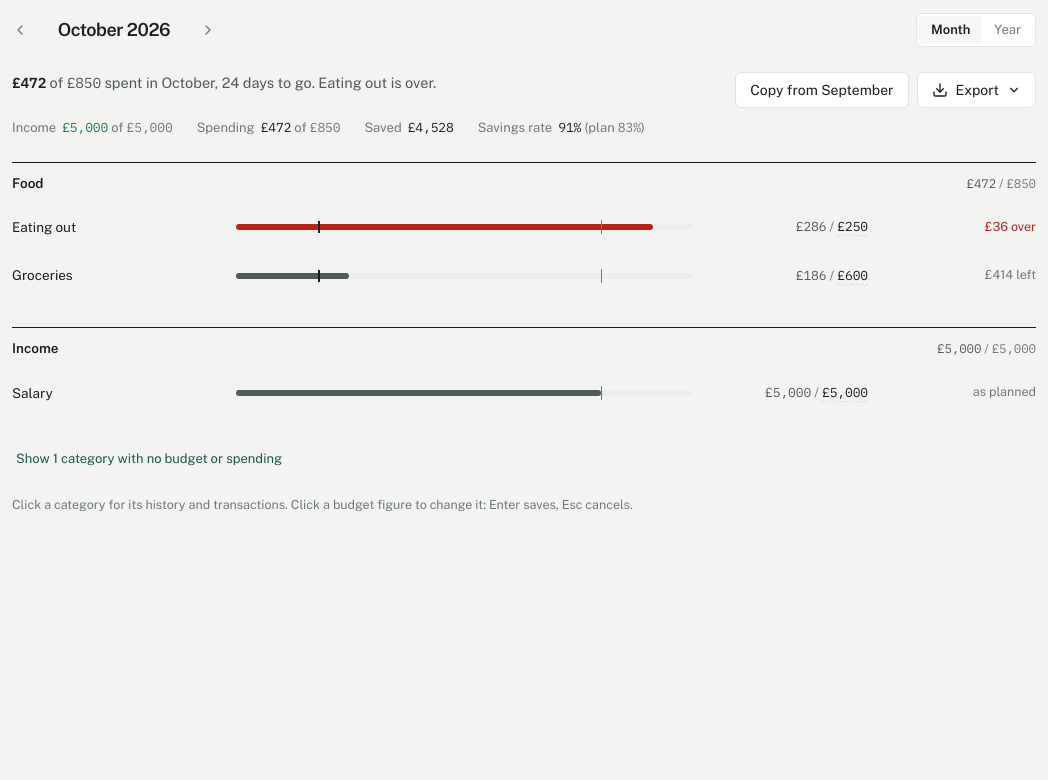
Test case: BudgetsView › rolls back and shows an error toast when the save fails
The image size is (1048, 780).
Expected: the text "24 days to go" is shown, [215,74,312,91]
Click the button named "Edit budget for Groceries, £600".
click(853, 276)  # box [833,262,872,289]
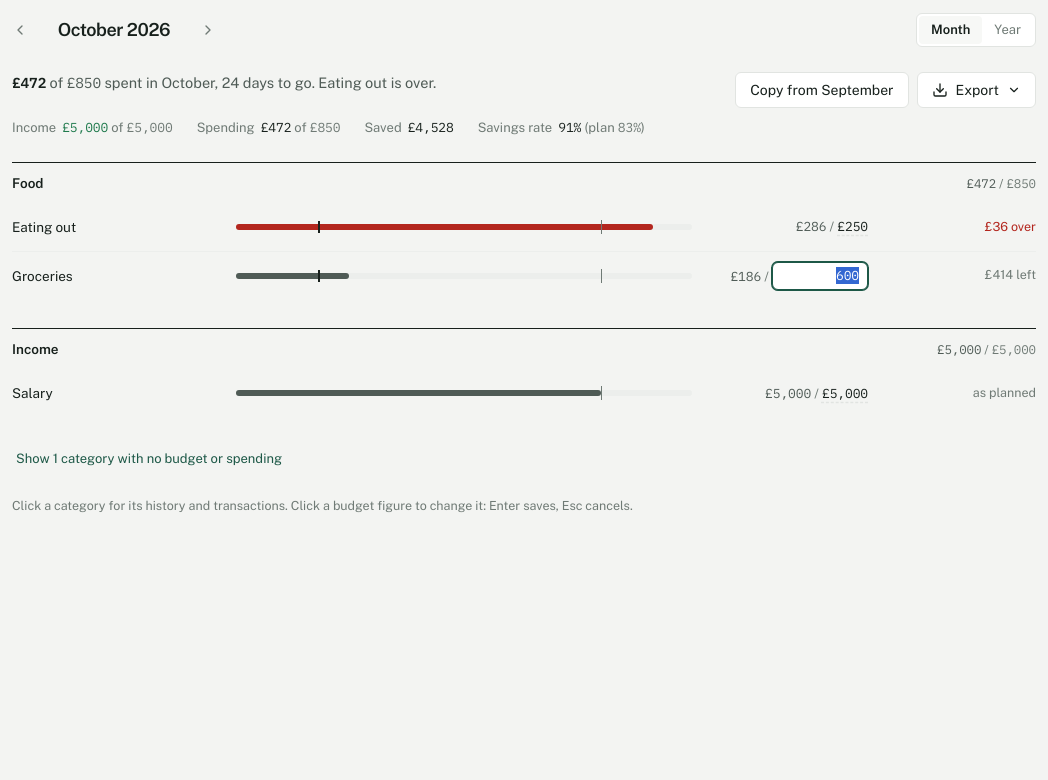
Replace the text in the field named "Budget for Groceries" with "450" at (820, 276), box [772,262,868,290]
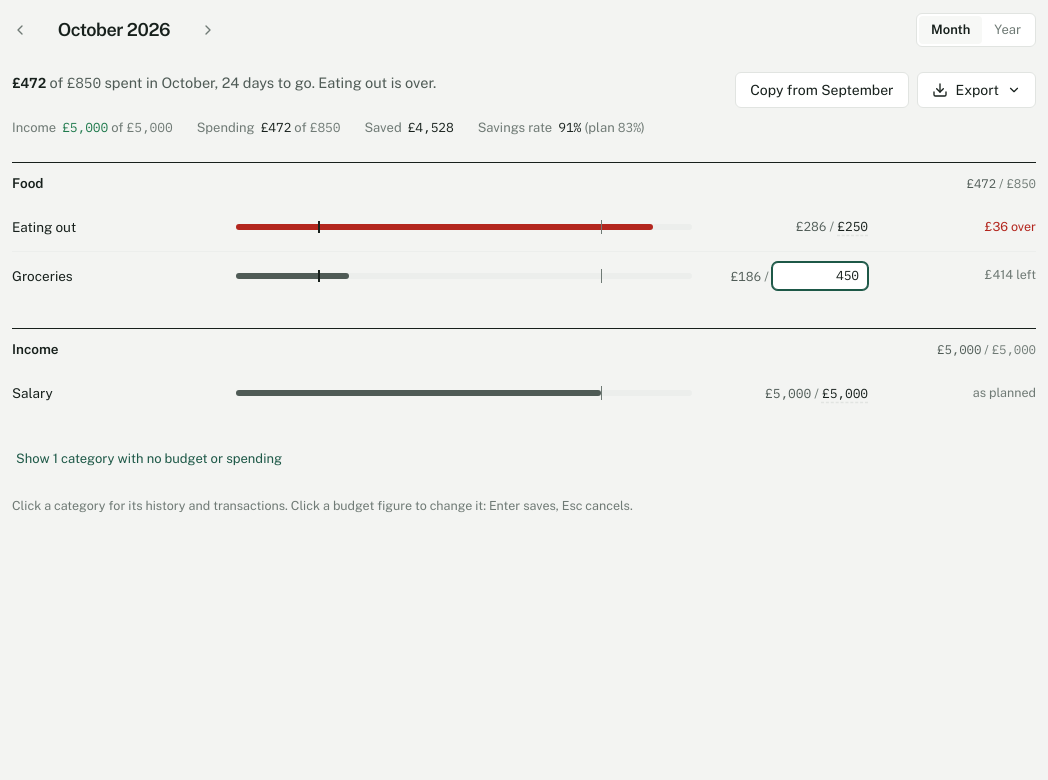
Press Enter in the field named "Budget for Groceries", box [772,262,868,290]
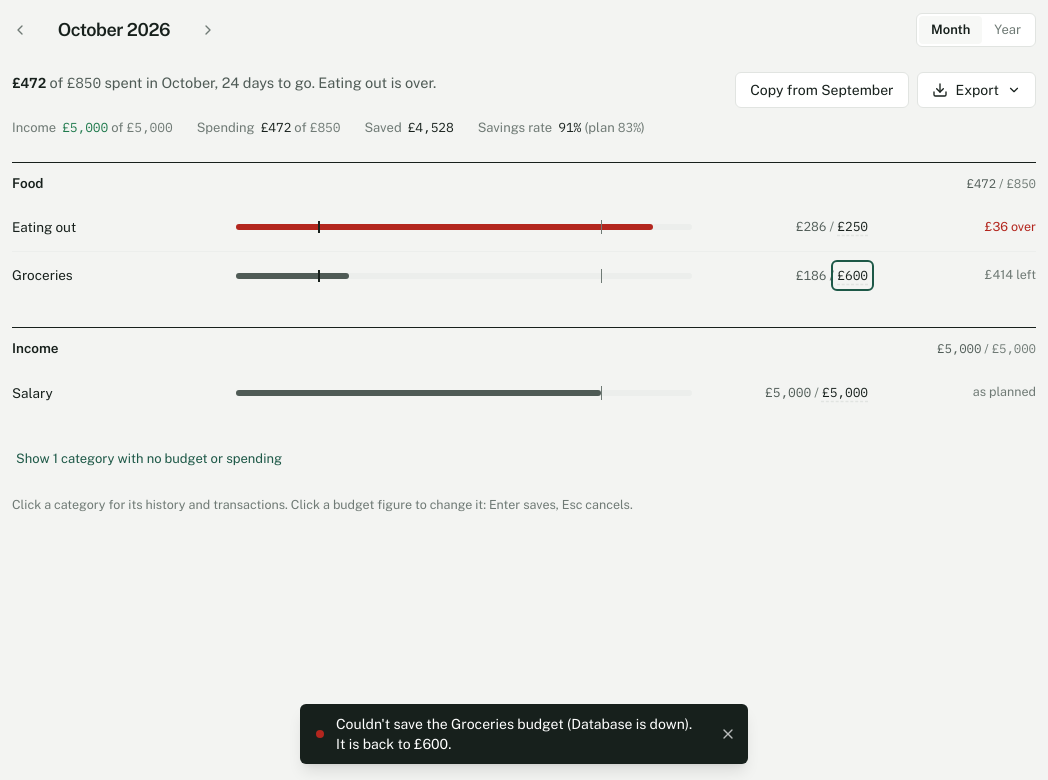
Expected: the text "£414 left" is shown, [985,267,1036,282]
Expected: the text "Couldn't save the Groceries budget (Database is down). It is back to £600." is shown, [336,714,704,754]
Expected: the button named "Edit budget for Groceries, £600" is shown, [833,262,872,289]
